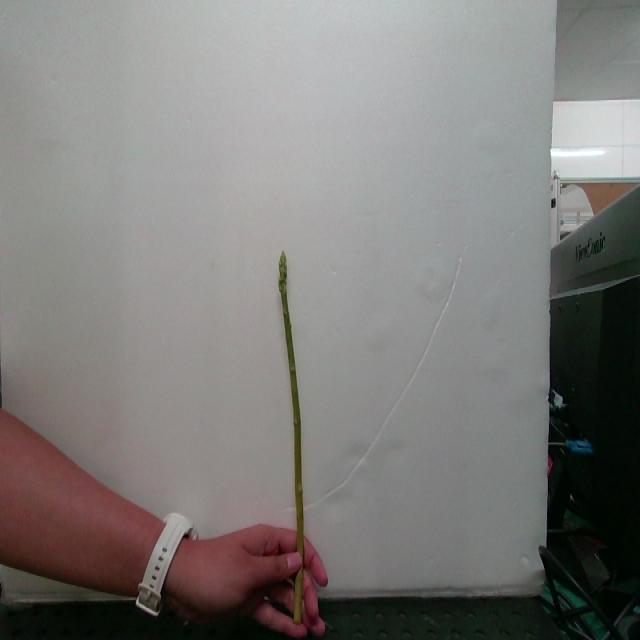aspargus: (278, 254, 308, 558)
